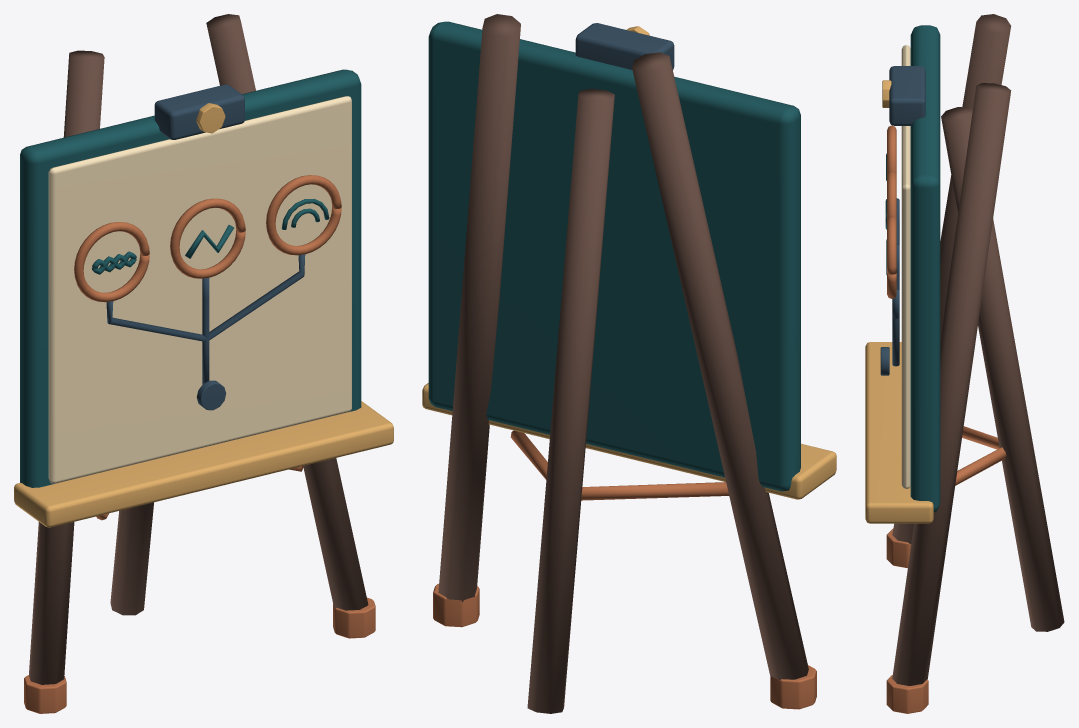
3 views of the same model, side by side, from view 1: azimuth 30°, elevation 25°; view 2: azimuth 150°, elevation 25°; view 3: azimuth 270°, elevation 25° (orthographic). The views are drawn at different scales.
Parts seen in each view (by area): view 1: PR016 workshop assembly; view 2: PR016 workshop assembly; view 3: PR016 workshop assembly.
Boxes of the visible parts, x1,y1,x2,y2 form: PR016 workshop assembly: (14,14,393,713); PR016 workshop assembly: (422,14,836,713); PR016 workshop assembly: (865,14,1064,713).
Size of the model in its own units: 0.97 by 1.6 by 0.4965.
